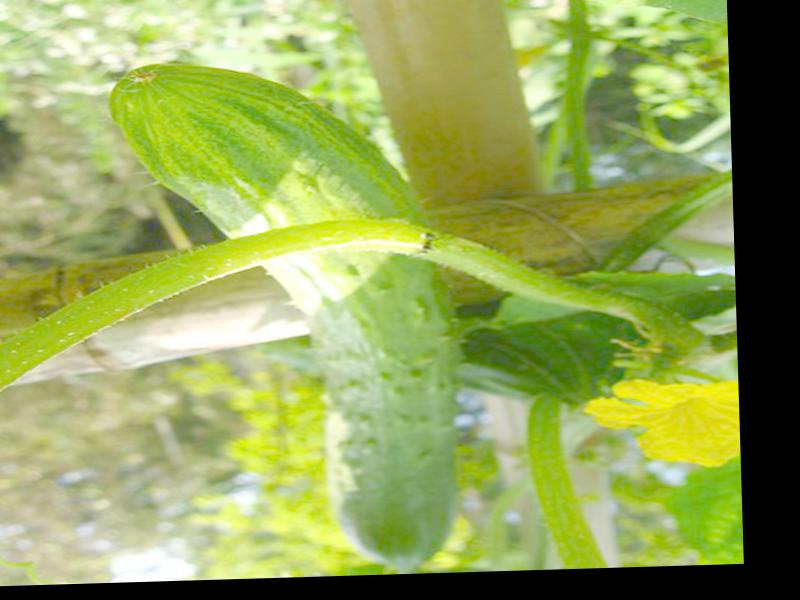Cucumber: (112, 54, 462, 578)
